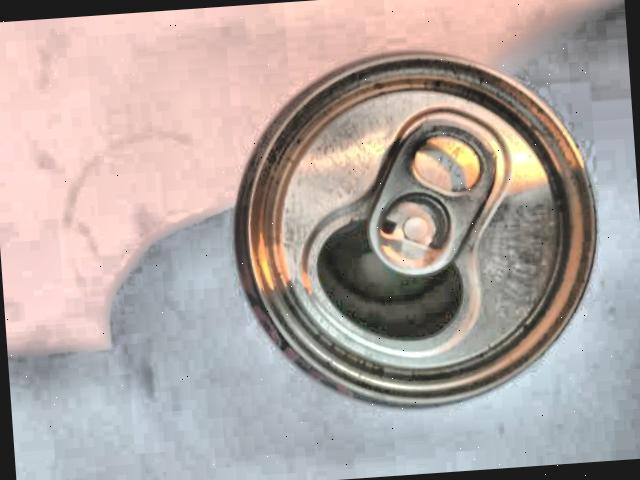Bottles: (206, 24, 634, 432)
